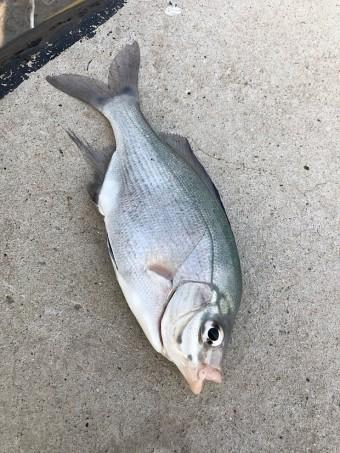fish: (47, 40, 242, 396)
